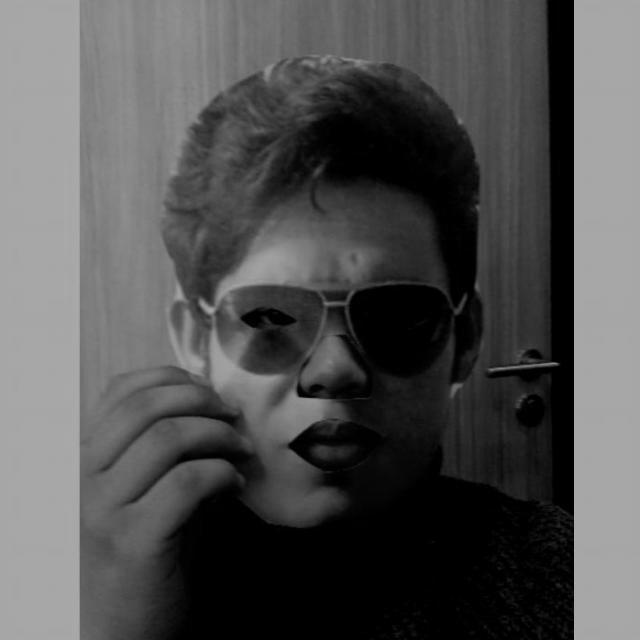fake: (161, 58, 490, 528)
